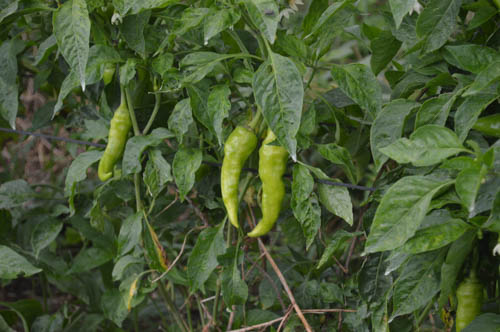ChiliPepper: (250, 134, 290, 239), (221, 127, 254, 227), (100, 108, 131, 180)
